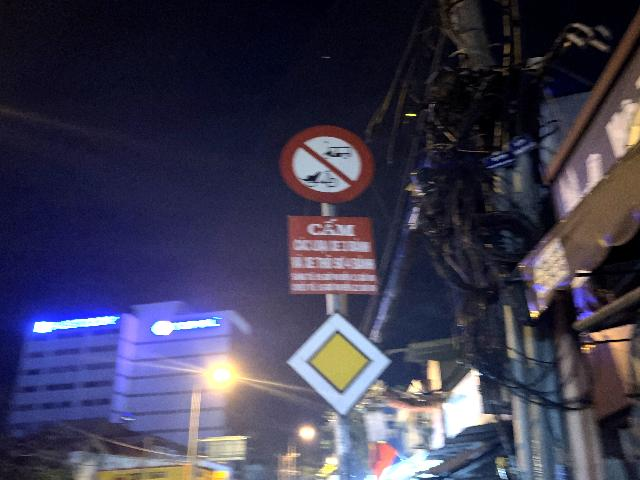bat-dau-duong-uu-tien: (286, 308, 393, 418)
cam-xe-3-banh-xe-tho-so-4-banh: (277, 124, 374, 205)
